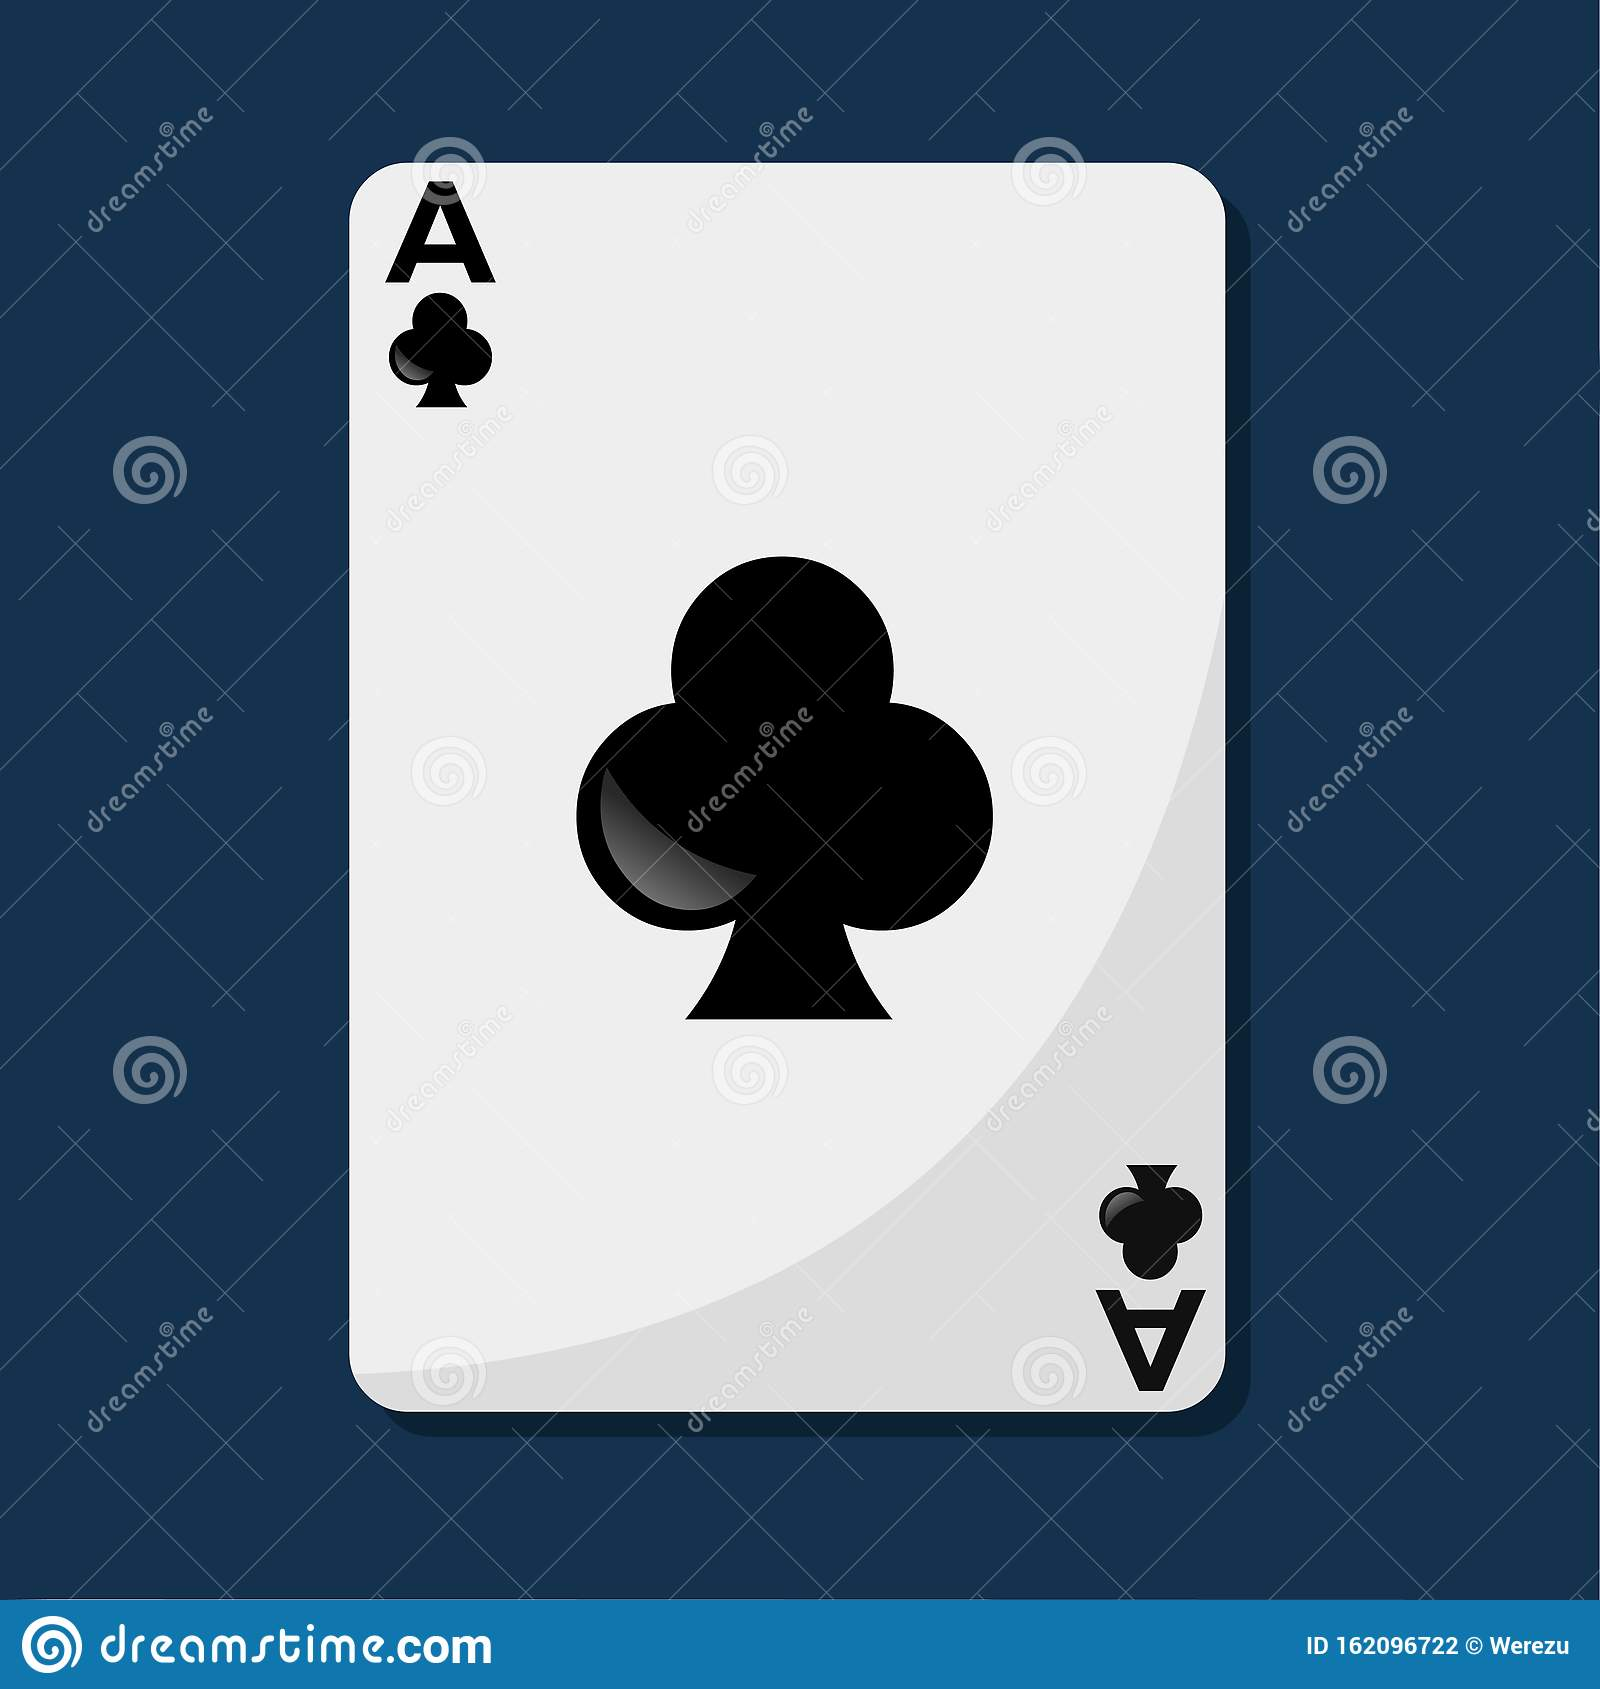ace of clubs: (343, 158, 1233, 1409)
